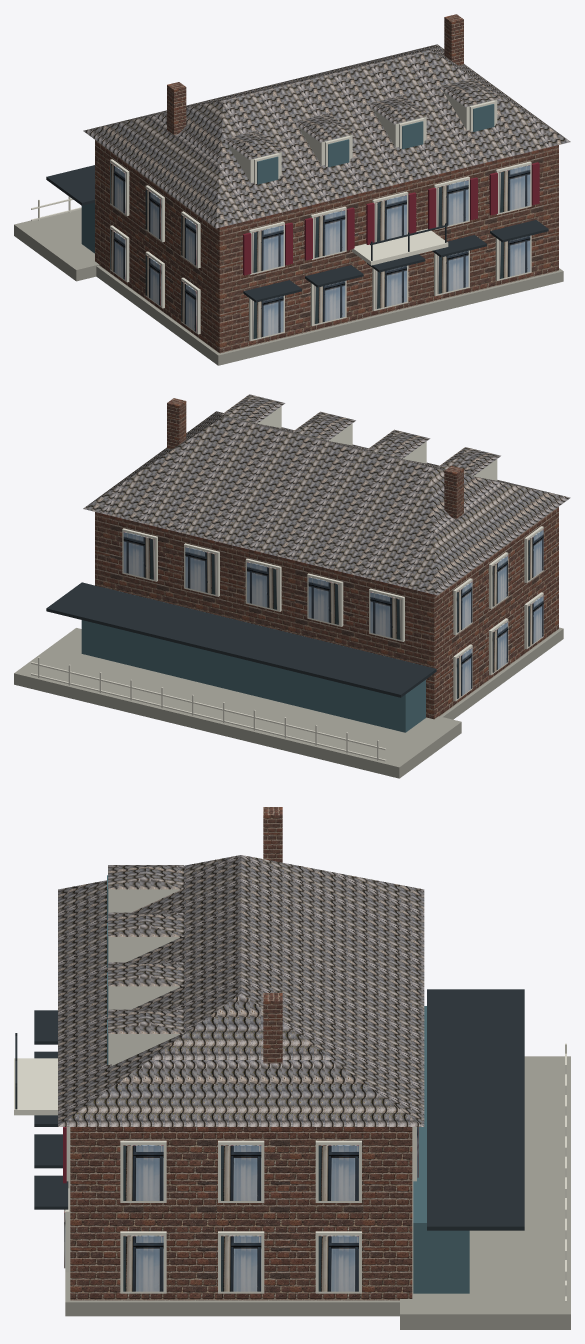
3 renders of one model, top to bottom at view 1: azimuth 30°, elevation 25°; view 2: azimuth 150°, elevation 25°; view 3: azimuth 270°, elevation 25°, orthographic. The views are drawn at different scales.
Visible parts, largest first — view 1: Uithoorn_rechthuis; view 2: Uithoorn_rechthuis; view 3: Uithoorn_rechthuis.
Boxes of the visible parts, x1,y1,x2,y2 form: Uithoorn_rechthuis: [14, 14, 570, 365]; Uithoorn_rechthuis: [14, 394, 570, 778]; Uithoorn_rechthuis: [14, 807, 570, 1329].
Size of the model in its own units: 25 by 13.4 by 22.8.
Materials: 8 (3 with a texture image).
